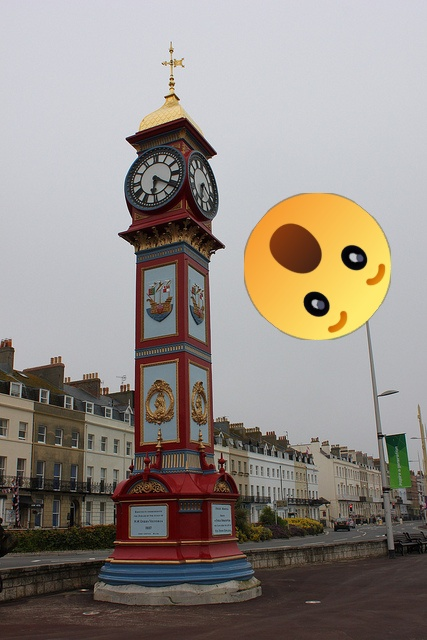wow: (244, 193, 391, 340)
